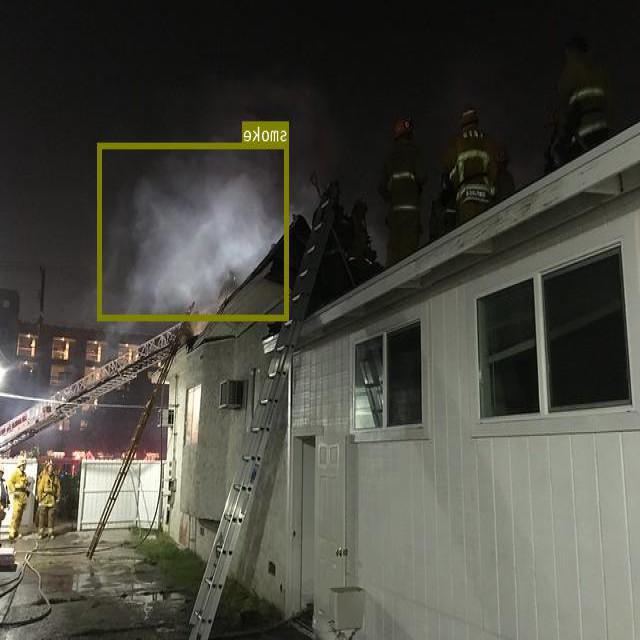smoke: (98, 142, 290, 320)
